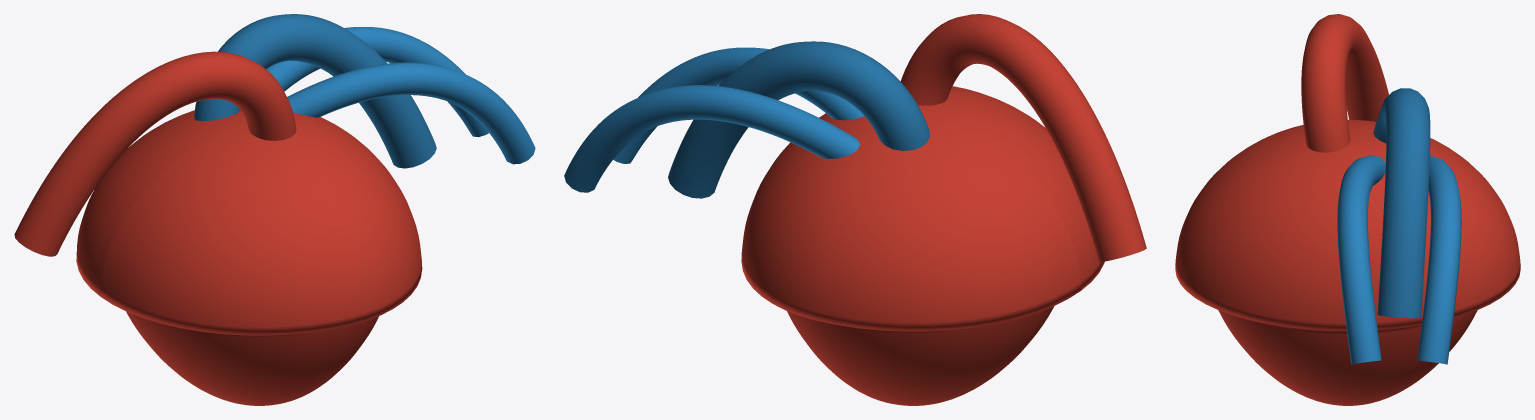
Rendered from circulatory.glb.
The picture shows the model from 3 angles, left to right: view 1: azimuth 30°, elevation 25°; view 2: azimuth 150°, elevation 25°; view 3: azimuth 270°, elevation 25°; orthographic projection. The views are drawn at different scales.
Visible parts, largest first — view 1: Heart, Aorta, PulmonaryArtery (×2), VenaCava; view 2: Heart, Aorta, PulmonaryArtery (×2), VenaCava; view 3: Heart, PulmonaryArtery (×2), VenaCava, Aorta.
Part boxes in pixels (x1,y1,x2,y2): Heart: [76, 110, 422, 405]; Aorta: [14, 51, 296, 256]; PulmonaryArtery (×2): [266, 27, 535, 164]; VenaCava: [194, 14, 436, 168]; Heart: [741, 86, 1104, 405]; Aorta: [900, 14, 1146, 261]; PulmonaryArtery (×2): [564, 47, 864, 192]; VenaCava: [668, 41, 930, 198]; Heart: [1175, 119, 1520, 405]; PulmonaryArtery (×2): [1337, 155, 1461, 364]; VenaCava: [1373, 88, 1430, 318]; Aorta: [1301, 14, 1388, 152].
Size of the model in its own units: 1.63 by 1.11 by 1.01.
